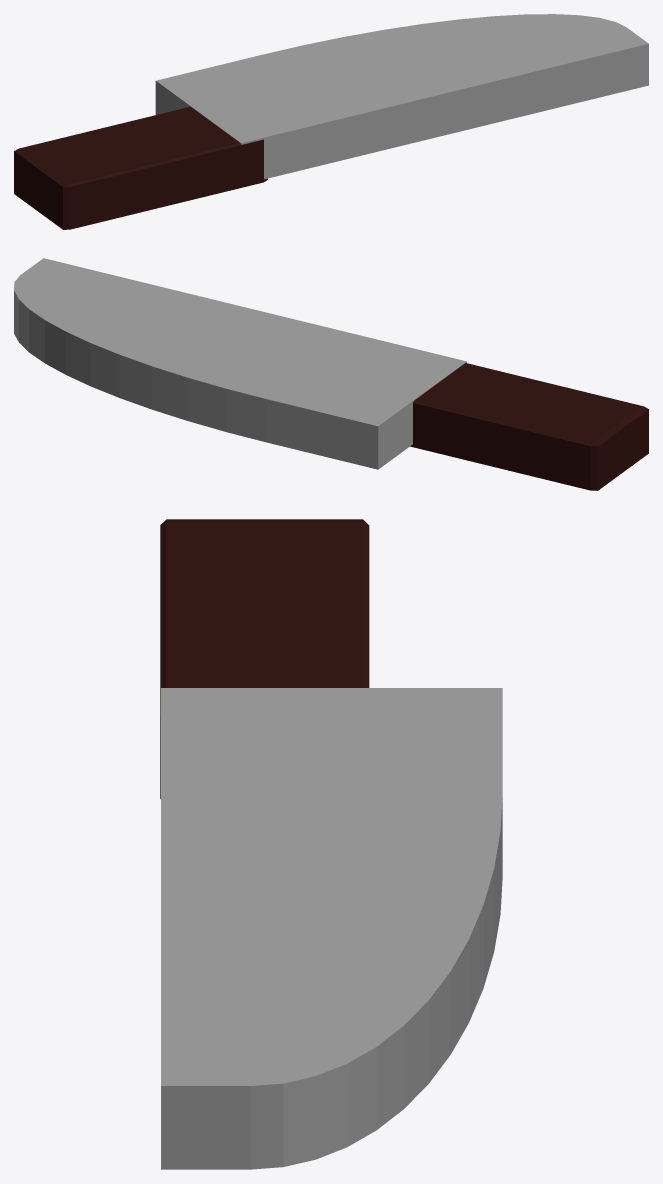
The model's file is knife.fbx.
3 views of the same model, one above another, from view 1: azimuth 30°, elevation 25°; view 2: azimuth 150°, elevation 25°; view 3: azimuth 270°, elevation 25° (orthographic). The views are drawn at different scales.
Visible parts, largest first — view 1: Cube.002; view 2: Cube.002; view 3: Cube.002.
Part boxes in pixels (x1,y1,x2,y2): Cube.002: (14,14,648,229); Cube.002: (14,258,648,490); Cube.002: (160,519,502,1169).
Bounding box in the file's own units: 35.44 × 2.66 × 8.99.
